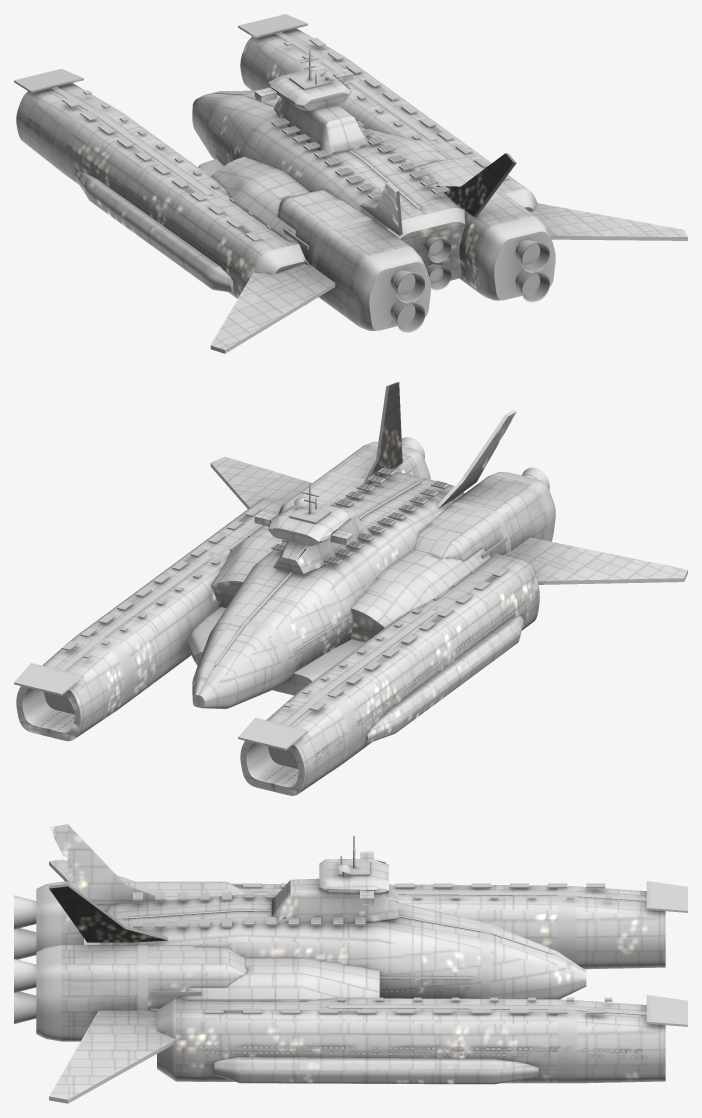
The model's file is ship-heron.glb.
3 views of the same model, one above another, from view 1: azimuth 30°, elevation 25°; view 2: azimuth 150°, elevation 25°; view 3: azimuth 270°, elevation 25° (orthographic). The views are drawn at different scales.
Visible parts, largest first — view 1: Hull; view 2: Hull; view 3: Hull.
Part boxes in pixels (box(x1,y1,x2,y2)): Hull: box(14, 14, 687, 353); Hull: box(14, 382, 687, 795); Hull: box(14, 824, 687, 1103).
Bounding box in the file's own units: 0.896 × 0.312 × 1.06.
Materials: 9 (1 with a texture image).
